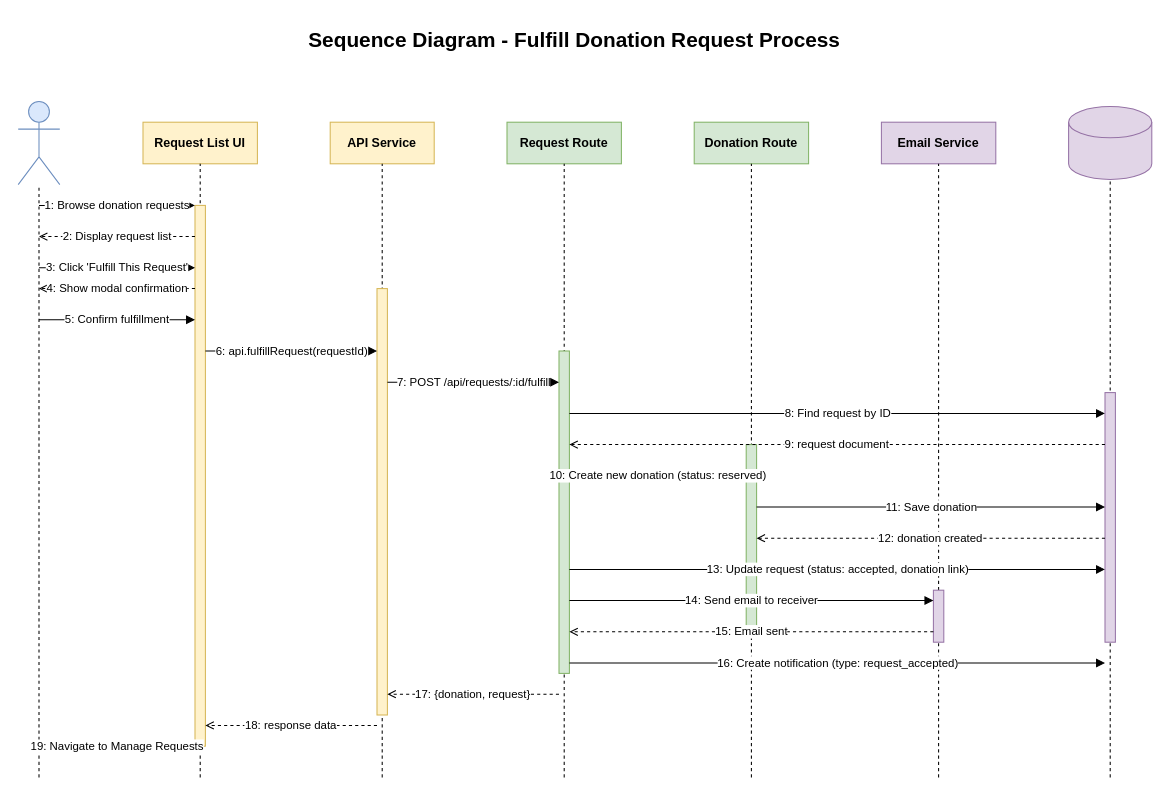
This 1170x797 diagram has some shape labels left out. Here are the shapes that lost their labels. From the top down, the centre of each, then its label:
At point (38, 142): "Donor".
At point (1110, 142): "MongoDB".
